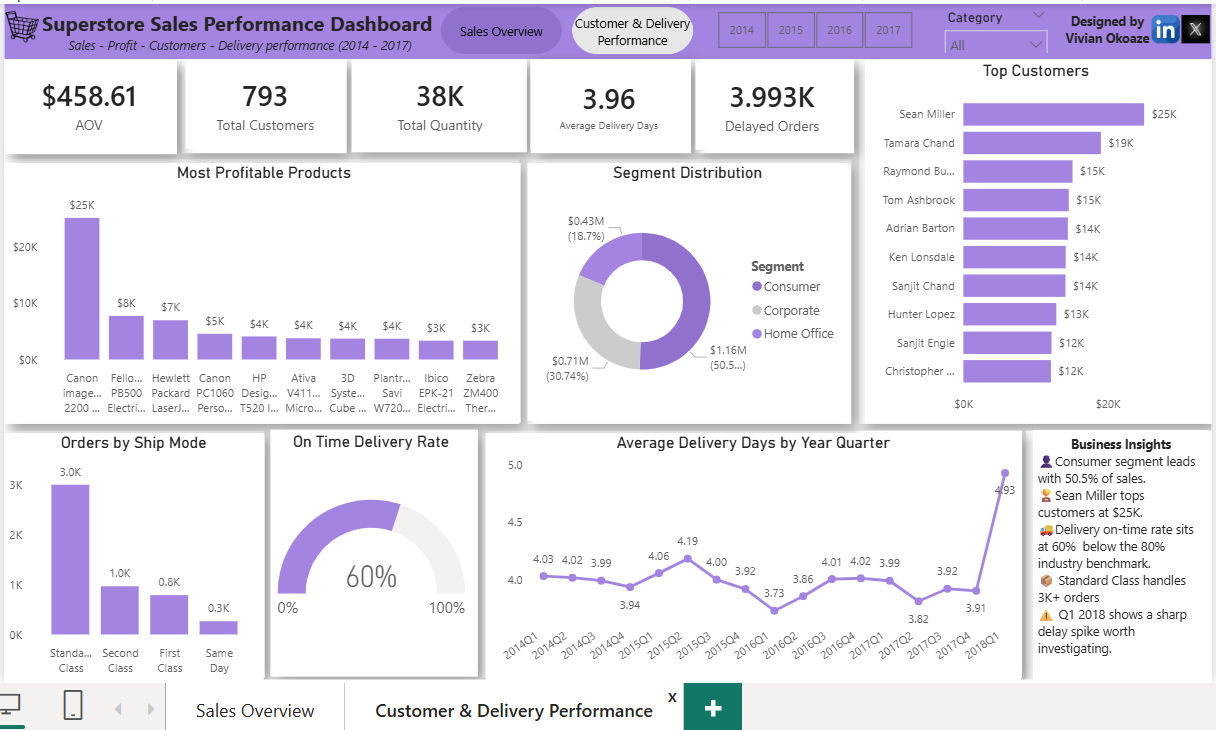

The page's visual inventory and layout, read from the dashboard file:
{"tool":"powerbi","page":{"name":"Customer & Delivery Performance","canvas":[1280,720],"ordinal":1},"visuals":[{"type":"donutChart","title":" Segment Distribution","fields":{"Category":["Sample - Superstore.Segment"],"Y":["Sample - Superstore.Total Sales"]},"box":[555.4,167.9,339.3,273.2],"z":0},{"type":"clusteredColumnChart","title":"Most Profitable  Products","fields":{"Category":["Sample - Superstore.Product Name"],"Y":["Sample - Superstore.Total Profit"]},"box":[3.6,167.9,544.6,275],"z":1000},{"type":"gauge","title":"On Time Delivery Rate","fields":{"Y":["Sample - Superstore.On Time Rate"]},"box":[283.9,453.6,208.9,255.4],"z":2000},{"type":"columnChart","title":" Orders by Ship Mode","fields":{"Category":["Sample - Superstore.Ship Mode"],"Y":["Sample - Superstore.Total Orders"]},"box":[0,455.4,275,264.3],"z":3000},{"type":"lineChart","title":"Average Delivery Days by Year Quarter","fields":{"Category":["Sample - Superstore.Ship Year Quarter"],"Y":["Sample - Superstore.Average Delivery Days"]},"box":[510.7,455.4,567.9,262.5],"z":4000},{"type":"clusteredBarChart","title":"Top Customers ","fields":{"Y":["Sample - Superstore.Total Sales"],"Category":["Sample - Superstore.Customer Name"]},"box":[912.5,60.7,362.5,382.1],"z":5000},{"type":"cardVisual","fields":{"Data":["Sample - Superstore.Average Order Value"]},"box":[0,60.7,180.4,94.6],"z":6000},{"type":"cardVisual","fields":{"Data":["Sample - Superstore.Total Quantity"]},"box":[380.4,60.7,164.3,92.9],"z":7000},{"type":"cardVisual","fields":{"Data":["Sample - Superstore.Total Customers"]},"box":[192.9,60.7,169.6,92.9],"z":8000},{"type":"cardVisual","fields":{"Data":["Sample - Superstore.Average Delivery Days"]},"box":[558.9,62.5,166.1,91.1],"z":9000},{"type":"cardVisual","fields":{"Data":["Sample - Superstore.Delayed Orders"]},"box":[733.9,62.5,162.5,92.9],"z":10000},{"type":"textbox","box":[30,0,440,56.7],"z":11000},{"type":"textbox","box":[1110.7,3.6,119.6,50],"z":12000},{"type":"slicer","fields":{"Values":["Sample - Superstore.Year"]},"box":[732.1,1.8,255.4,51.8],"z":13000},{"type":"slicer","fields":{"Values":["Sample - Superstore.Category"]},"box":[987.5,0,128.6,51.8],"z":14000},{"type":"image","box":[0,0,38.8,46.2],"z":15000},{"type":"textbox","box":[1091.7,451.7,186.7,266.7],"z":16000},{"type":"image","box":[1216.7,6.7,30,40],"z":17000},{"type":"image","box":[1248.3,6.7,30,40],"z":18000},{"type":"pageNavigator","box":[462.9,3.2,268.8,50.9],"z":19000}]}

Visuals, with their boxes on the page's 1280x720 design canvas (x1, y1, x2, y2). These are canvas units, not pixel positions in the 1216x730 screenshot, which may show the page scaled, cropped or inside an application window:
" Segment Distribution" donutChart: bbox=(555, 168, 895, 441)
"Most Profitable  Products" clusteredColumnChart: bbox=(4, 168, 548, 443)
"On Time Delivery Rate" gauge: bbox=(284, 454, 493, 709)
" Orders by Ship Mode" columnChart: bbox=(0, 455, 275, 720)
"Average Delivery Days by Year Quarter" lineChart: bbox=(511, 455, 1079, 718)
"Top Customers " clusteredBarChart: bbox=(912, 61, 1275, 443)
cardVisual - Sample - Superstore.Average Order Value: bbox=(0, 61, 180, 155)
cardVisual - Sample - Superstore.Total Quantity: bbox=(380, 61, 545, 154)
cardVisual - Sample - Superstore.Total Customers: bbox=(193, 61, 362, 154)
cardVisual - Sample - Superstore.Average Delivery Days: bbox=(559, 62, 725, 154)
cardVisual - Sample - Superstore.Delayed Orders: bbox=(734, 62, 896, 155)
textbox: bbox=(30, 0, 470, 57)
textbox: bbox=(1111, 4, 1230, 54)
slicer - Sample - Superstore.Year: bbox=(732, 2, 988, 54)
slicer - Sample - Superstore.Category: bbox=(988, 0, 1116, 52)
image: bbox=(0, 0, 39, 46)
textbox: bbox=(1092, 452, 1278, 718)
image: bbox=(1217, 7, 1247, 47)
image: bbox=(1248, 7, 1278, 47)
pageNavigator: bbox=(463, 3, 732, 54)
